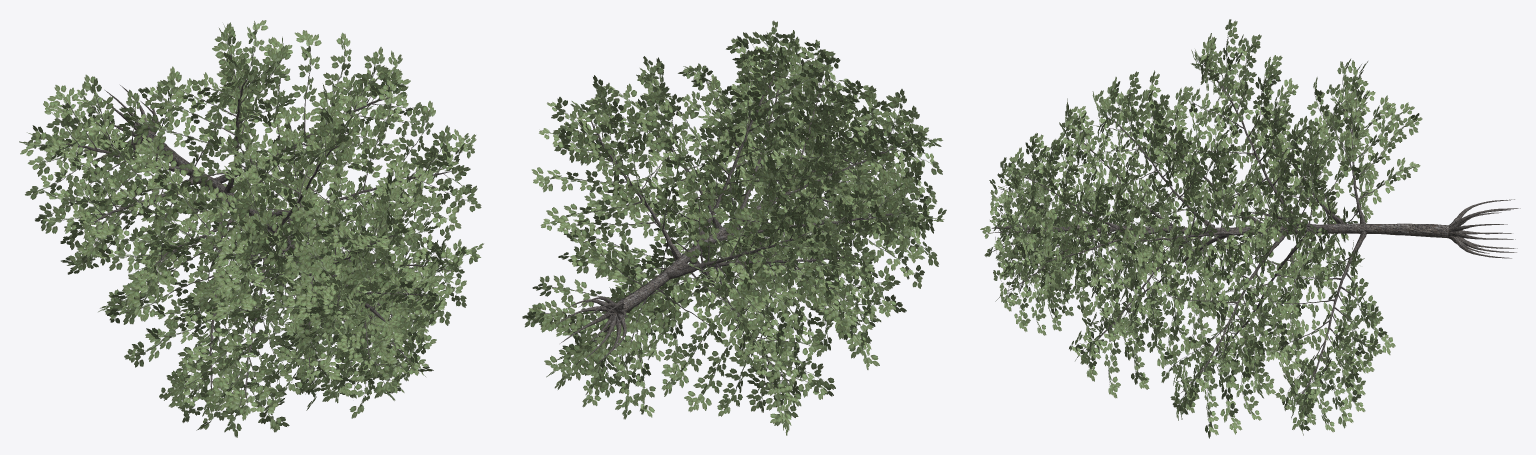
3 renders of one model, left to right at view 1: azimuth 30°, elevation 25°; view 2: azimuth 150°, elevation 25°; view 3: azimuth 270°, elevation 25°, orthographic. The views are drawn at different scales.
Parts seen in each view (by area): view 1: BL02m; view 2: BL02m; view 3: BL02m.
Boxes of the visible parts, x1,y1,x2,y2 form: BL02m: (19,20,483,437); BL02m: (522,20,946,435); BL02m: (980,19,1520,438).
Bounding box in the file's own units: 10.6 × 10.82 × 13.97.
Materials: 2 (2 with a texture image).
